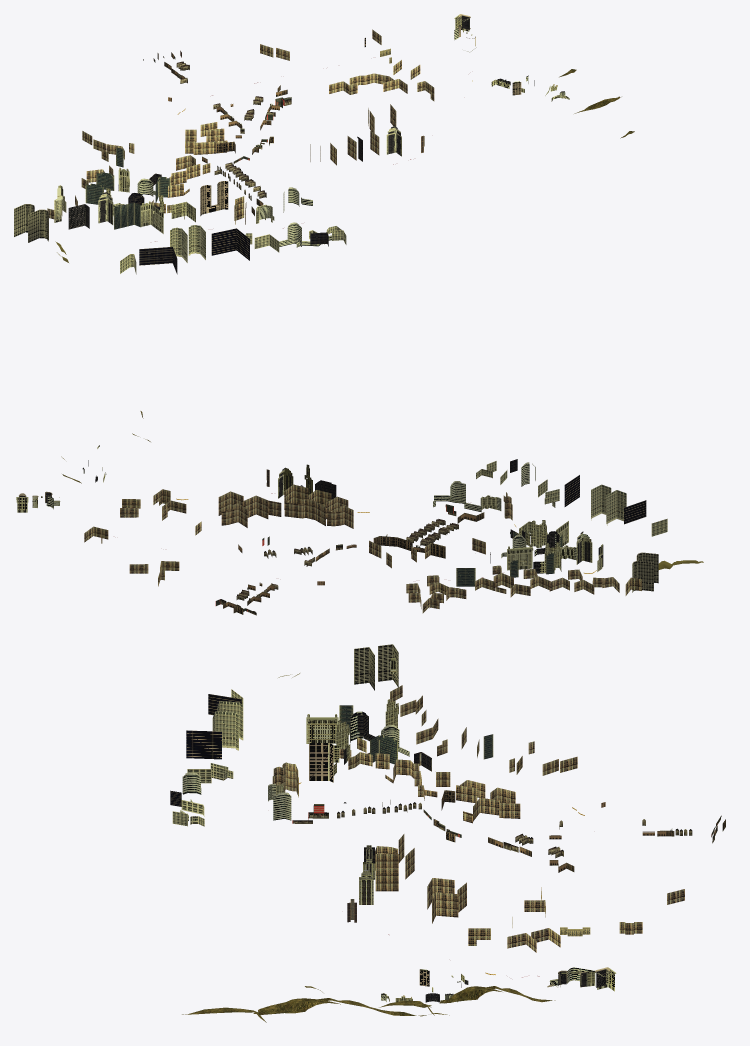
The model's file is track-B2_C3_V1_env.glb.
The picture shows the model from 3 angles, top to bottom: view 1: azimuth 30°, elevation 25°; view 2: azimuth 150°, elevation 25°; view 3: azimuth 270°, elevation 25°; orthographic projection. The views are drawn at different scales.
Visible parts, largest first — view 1: B2_C3_V1_env; view 2: B2_C3_V1_env; view 3: B2_C3_V1_env.
Boxes of the visible parts, x1,y1,x2,y2 form: B2_C3_V1_env: [14, 14, 634, 274]; B2_C3_V1_env: [16, 411, 703, 615]; B2_C3_V1_env: [170, 644, 725, 1022].
Size of the model in its own units: 3415 by 233 by 2880.
Materials: 20 (19 with a texture image).
